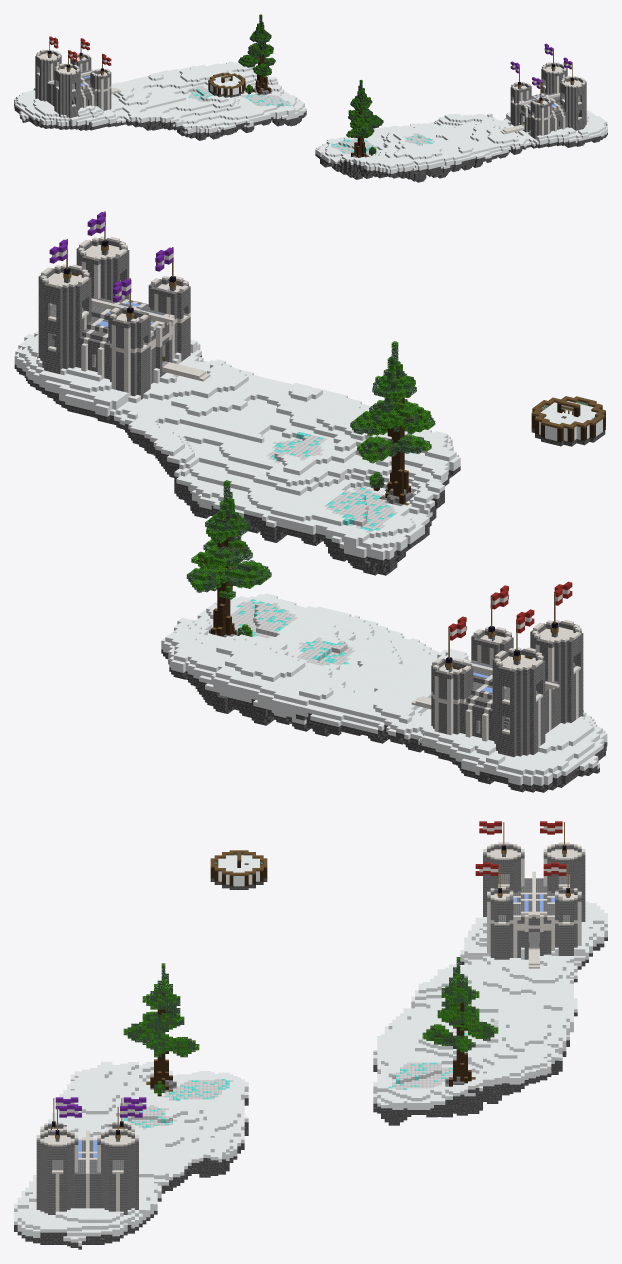
The model's file is minecraft.obj.
The picture shows the model from 3 angles, top to bottom: view 1: azimuth 30°, elevation 25°; view 2: azimuth 150°, elevation 25°; view 3: azimuth 270°, elevation 25°; orthographic projection. The views are drawn at different scales.
Bounding box in the file's own units: 211 × 51.5 × 157.
